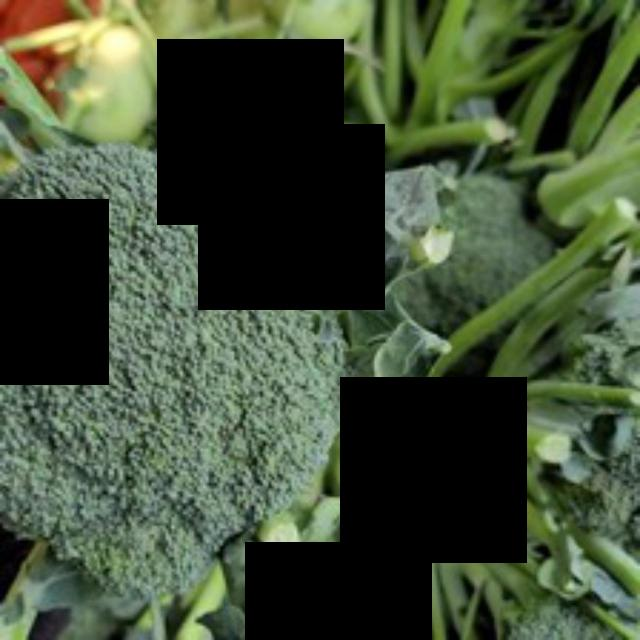broccoli: (0, 125, 360, 630)
